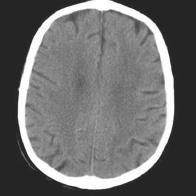Normal_Brain: (1, 1, 195, 190)
